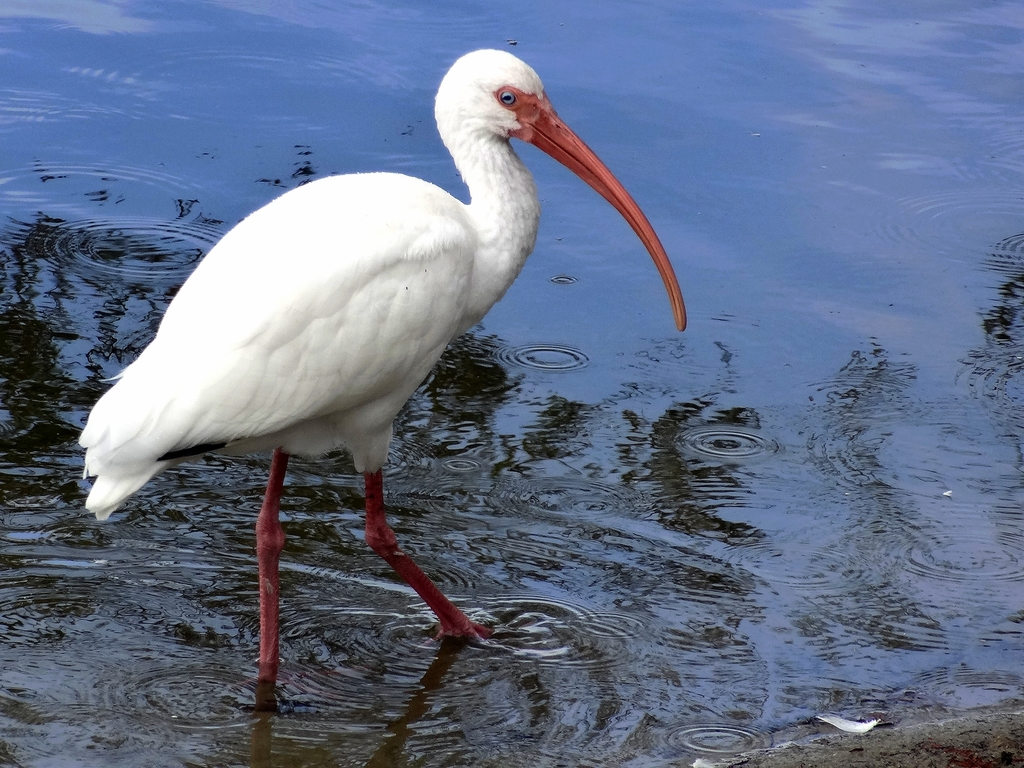Bird: (78, 48, 686, 683)
